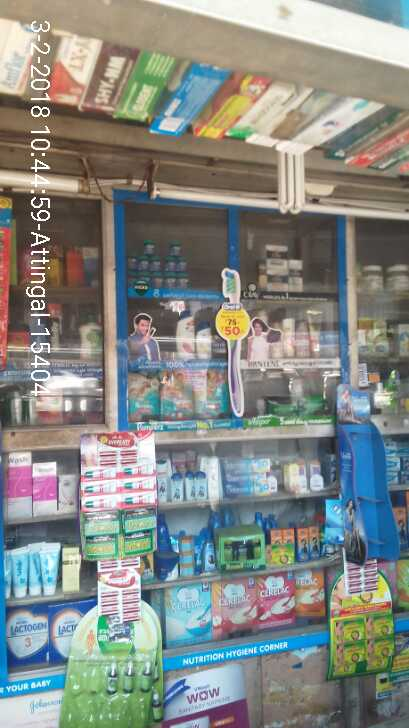vicks: (121, 235, 196, 293)
